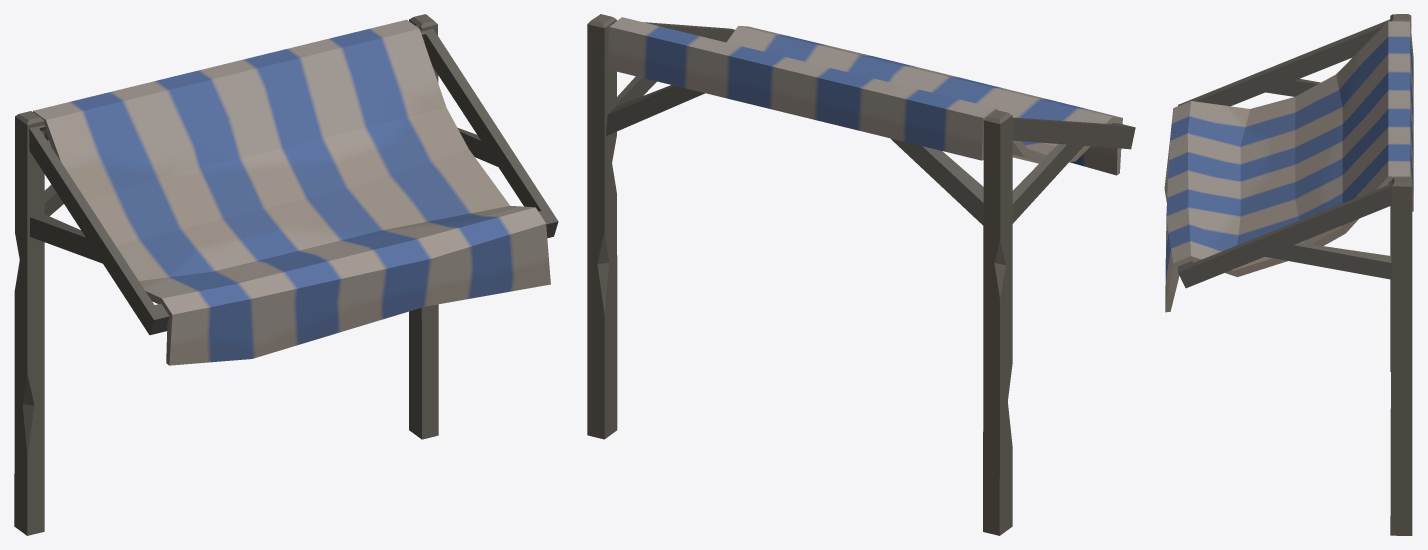
Rendered from SM_Bld_Village_ClothCover_Slope_01.glb.
The picture shows the model from 3 angles, left to right: view 1: azimuth 30°, elevation 25°; view 2: azimuth 150°, elevation 25°; view 3: azimuth 270°, elevation 25°; orthographic projection. The views are drawn at different scales.
Visible parts, largest first — view 1: SM_Bld_Village_ClothCover_Slope_01; view 2: SM_Bld_Village_ClothCover_Slope_01; view 3: SM_Bld_Village_ClothCover_Slope_01.
Part boxes in pixels (box(x1,y1,x2,y2)): SM_Bld_Village_ClothCover_Slope_01: box(14, 14, 558, 535); SM_Bld_Village_ClothCover_Slope_01: box(587, 14, 1135, 535); SM_Bld_Village_ClothCover_Slope_01: box(1164, 14, 1413, 535).
Size of the model in its own units: 3.63 by 3.49 by 2.23.
Materials: 1 (1 with a texture image).
